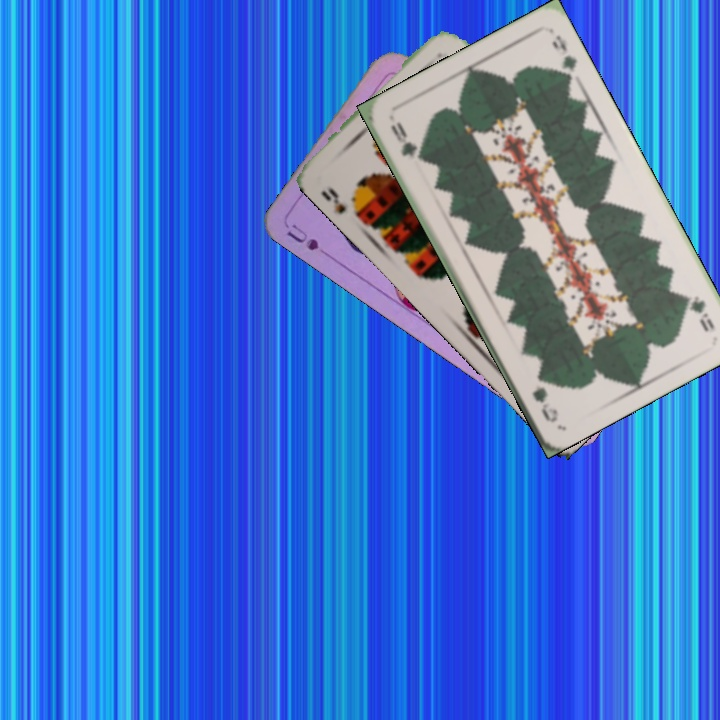G9: (678, 288, 717, 334), (386, 117, 424, 164)
S9: (317, 183, 366, 220)
SU: (282, 219, 336, 263)
